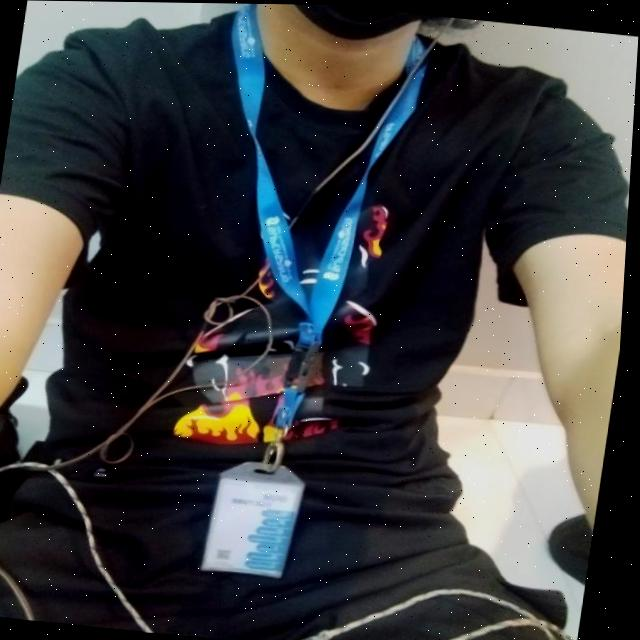id_card: (154, 9, 419, 590)
